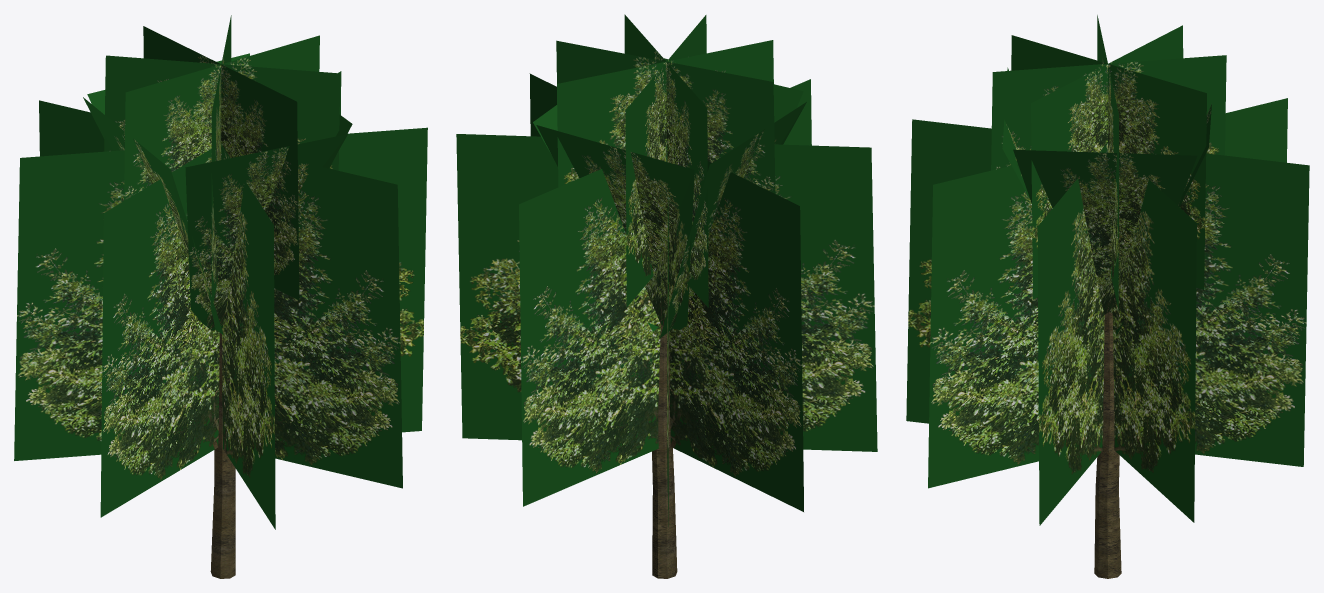
Rendered from Tree03.fbx.
The picture shows the model from 3 angles, left to right: view 1: azimuth 30°, elevation 25°; view 2: azimuth 150°, elevation 25°; view 3: azimuth 270°, elevation 25°; orthographic projection.
Visible parts, largest first — view 1: U3DMesh; view 2: U3DMesh; view 3: U3DMesh.
Part boxes in pixels (box(x1,y1,x2,y2)): U3DMesh: box(14, 15, 427, 578); U3DMesh: box(456, 14, 877, 578); U3DMesh: box(906, 15, 1309, 578).
Size of the model in its own units: 19.39 by 27.54 by 19.75.
